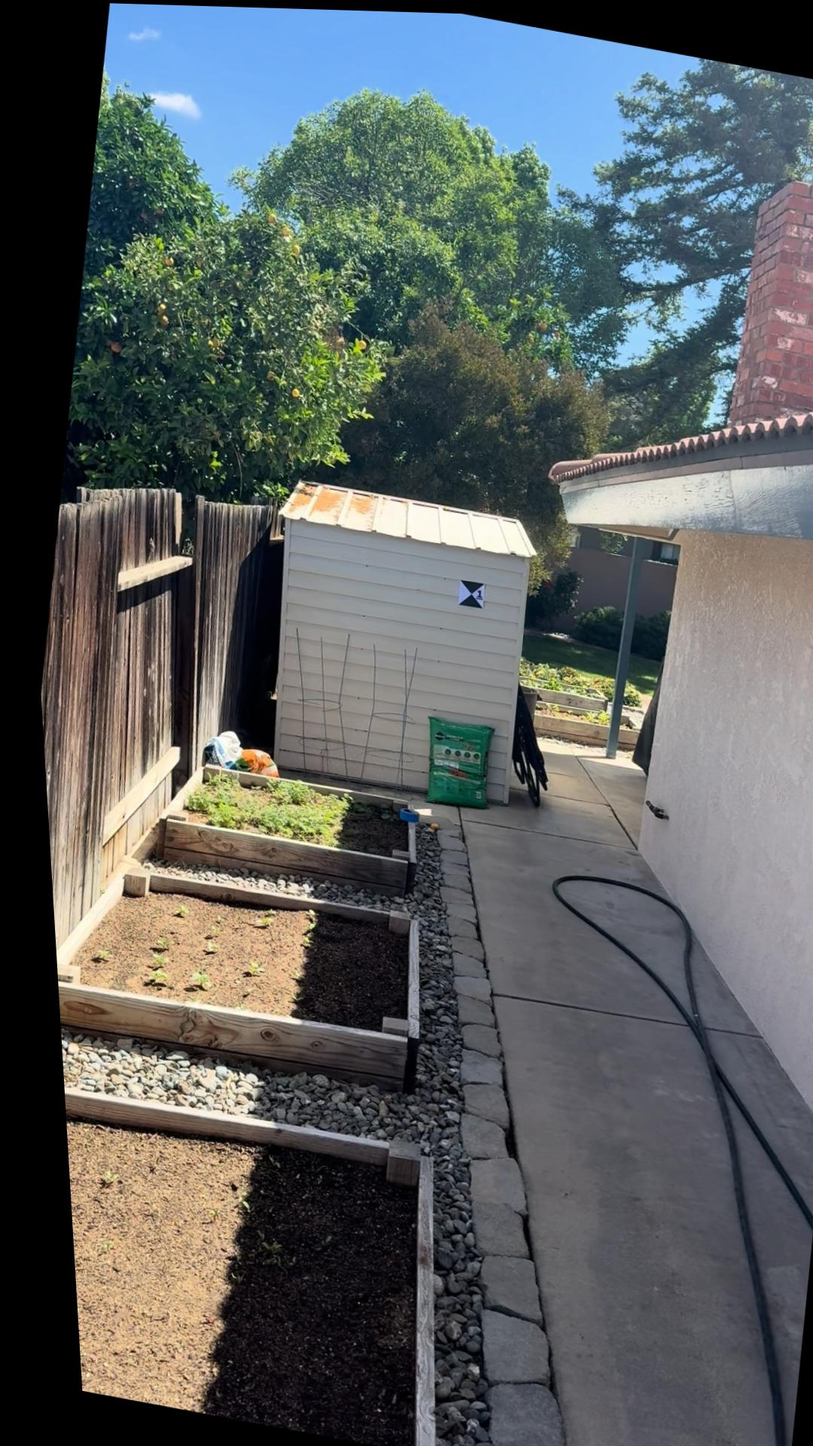target1: (454, 577, 490, 612)
